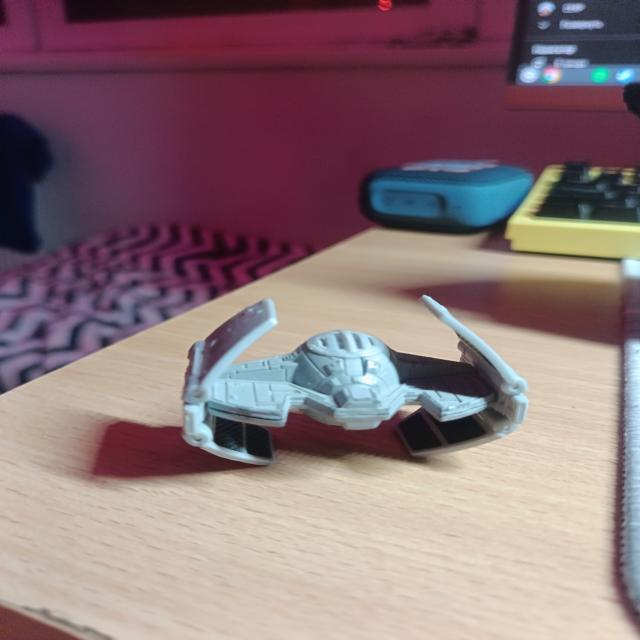tie fighter: (182, 295, 528, 465)
